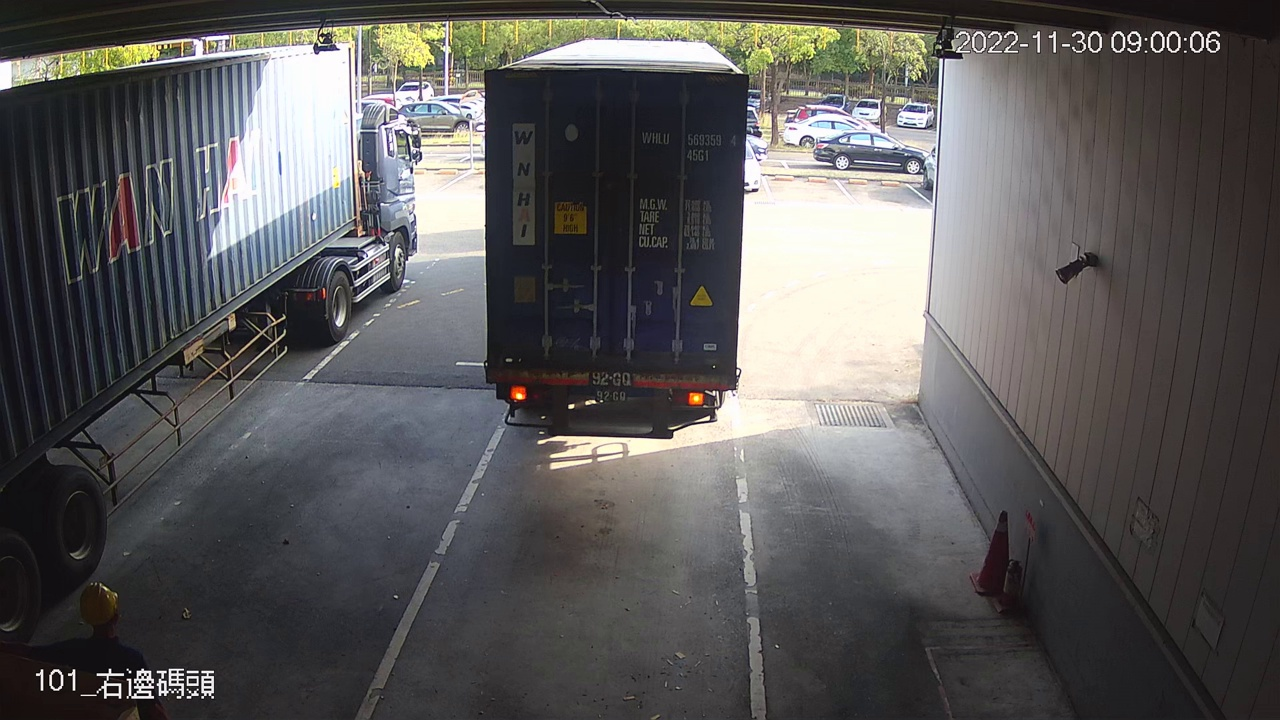container: (639, 126, 739, 167)
